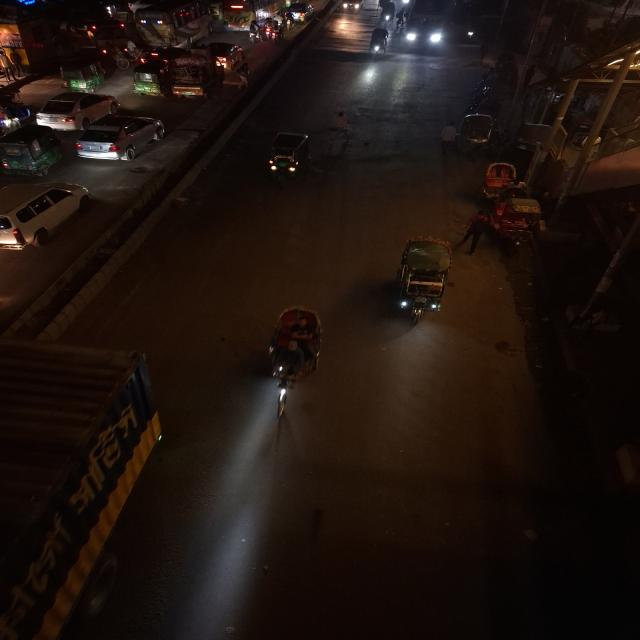bus: (136, 0, 217, 46), (401, 0, 454, 52)
car: (0, 177, 96, 256), (74, 112, 168, 164), (36, 89, 121, 130), (199, 39, 245, 69), (286, 0, 314, 24)
cng: (256, 128, 316, 186), (0, 125, 64, 177), (58, 57, 106, 91), (130, 62, 165, 100)
motorcycle: (263, 16, 282, 42)
pickup_van: (167, 56, 219, 104)
rickshaw: (263, 303, 327, 419), (463, 181, 548, 256), (392, 235, 456, 329), (456, 112, 500, 162), (476, 161, 522, 200)
